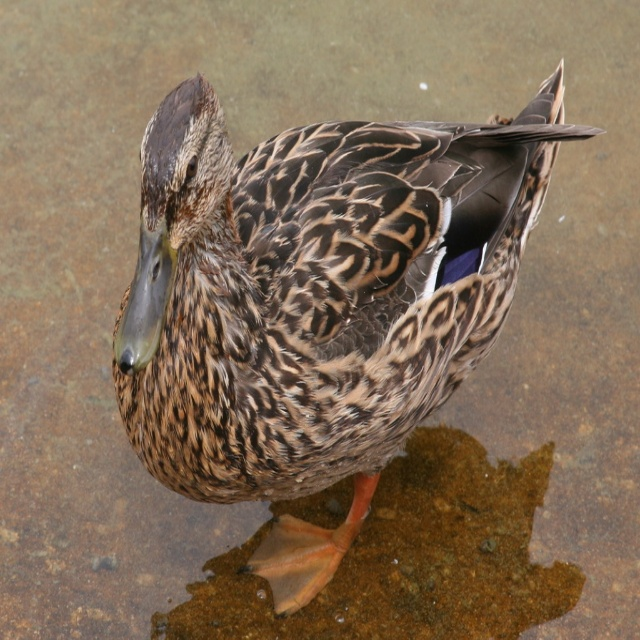Duck: (106, 53, 574, 595)
